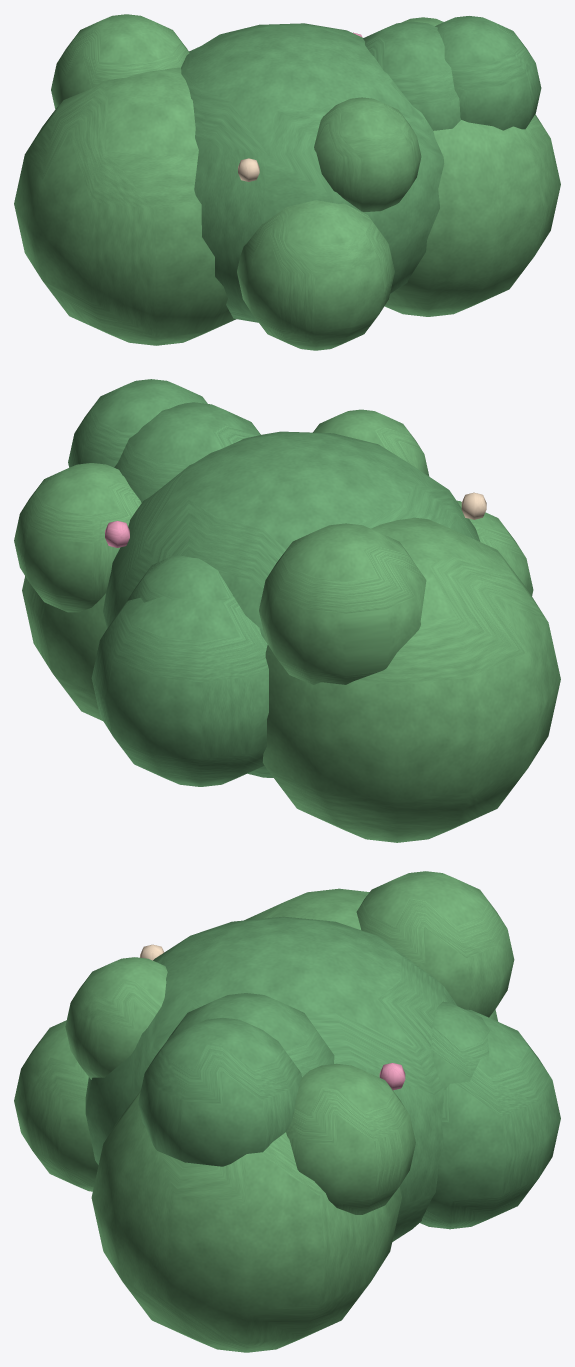
Rendered from bush.glb.
3 views of the same model, one above another, from view 1: azimuth 30°, elevation 25°; view 2: azimuth 150°, elevation 25°; view 3: azimuth 270°, elevation 25° (orthographic). The views are drawn at different scales.
Parts seen in each view (by area): view 1: bush_body; view 2: bush_body; view 3: bush_body.
Boxes of the visible parts, x1=… form: bush_body: x1=14, y1=14, x2=560, y2=350; bush_body: x1=14, y1=379, x2=560, y2=842; bush_body: x1=14, y1=871, x2=560, y2=1352.
Bounding box in the file's own units: 1.72 × 0.9875 × 1.48.
4 materials, 4 textured.
